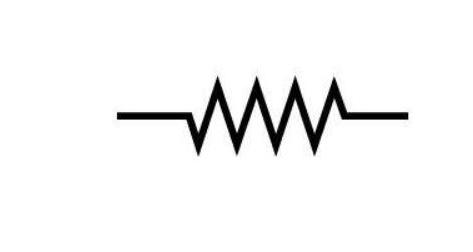resistor: (148, 72, 366, 174)
